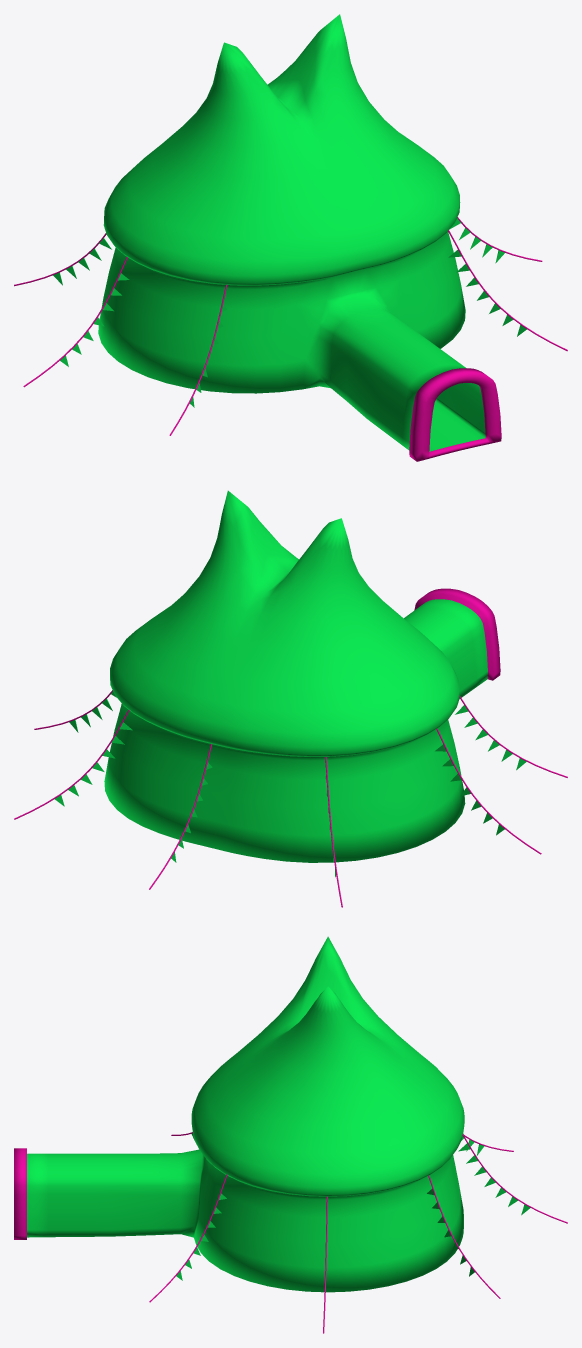
The model's file is JesterTent.fbx.
3 views of the same model, one above another, from view 1: azimuth 30°, elevation 25°; view 2: azimuth 150°, elevation 25°; view 3: azimuth 270°, elevation 25° (orthographic). The views are drawn at different scales.
Parts seen in each view (by area): view 1: BossTent; view 2: BossTent; view 3: BossTent.
Boxes of the visible parts, <box> form: BossTent: <box>14,14,567,461</box>; BossTent: <box>14,490,567,907</box>; BossTent: <box>14,936,567,1333</box>.
Size of the model in its own units: 5335 by 2904 by 5580.
